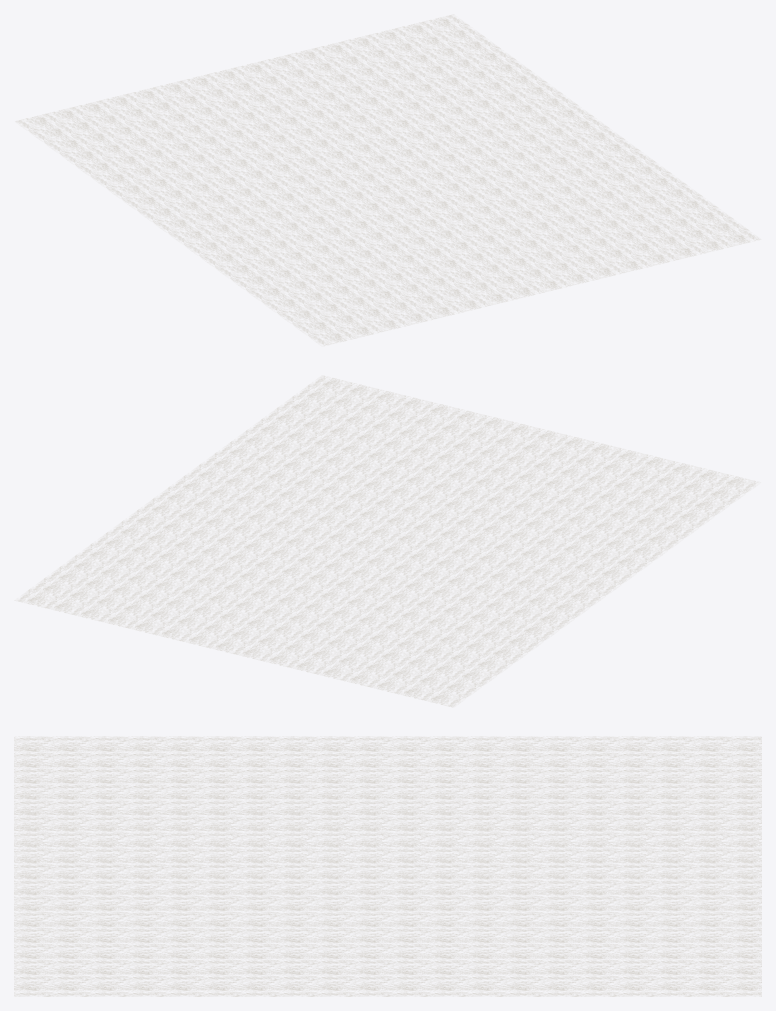
Rendered from flood_flow.glb.
The picture shows the model from 3 angles, top to bottom: view 1: azimuth 30°, elevation 25°; view 2: azimuth 150°, elevation 25°; view 3: azimuth 270°, elevation 25°; orthographic projection. The views are drawn at different scales.
Size of the model in its own units: 589 by 0 by 714.
Materials: 1 (1 with a texture image).
